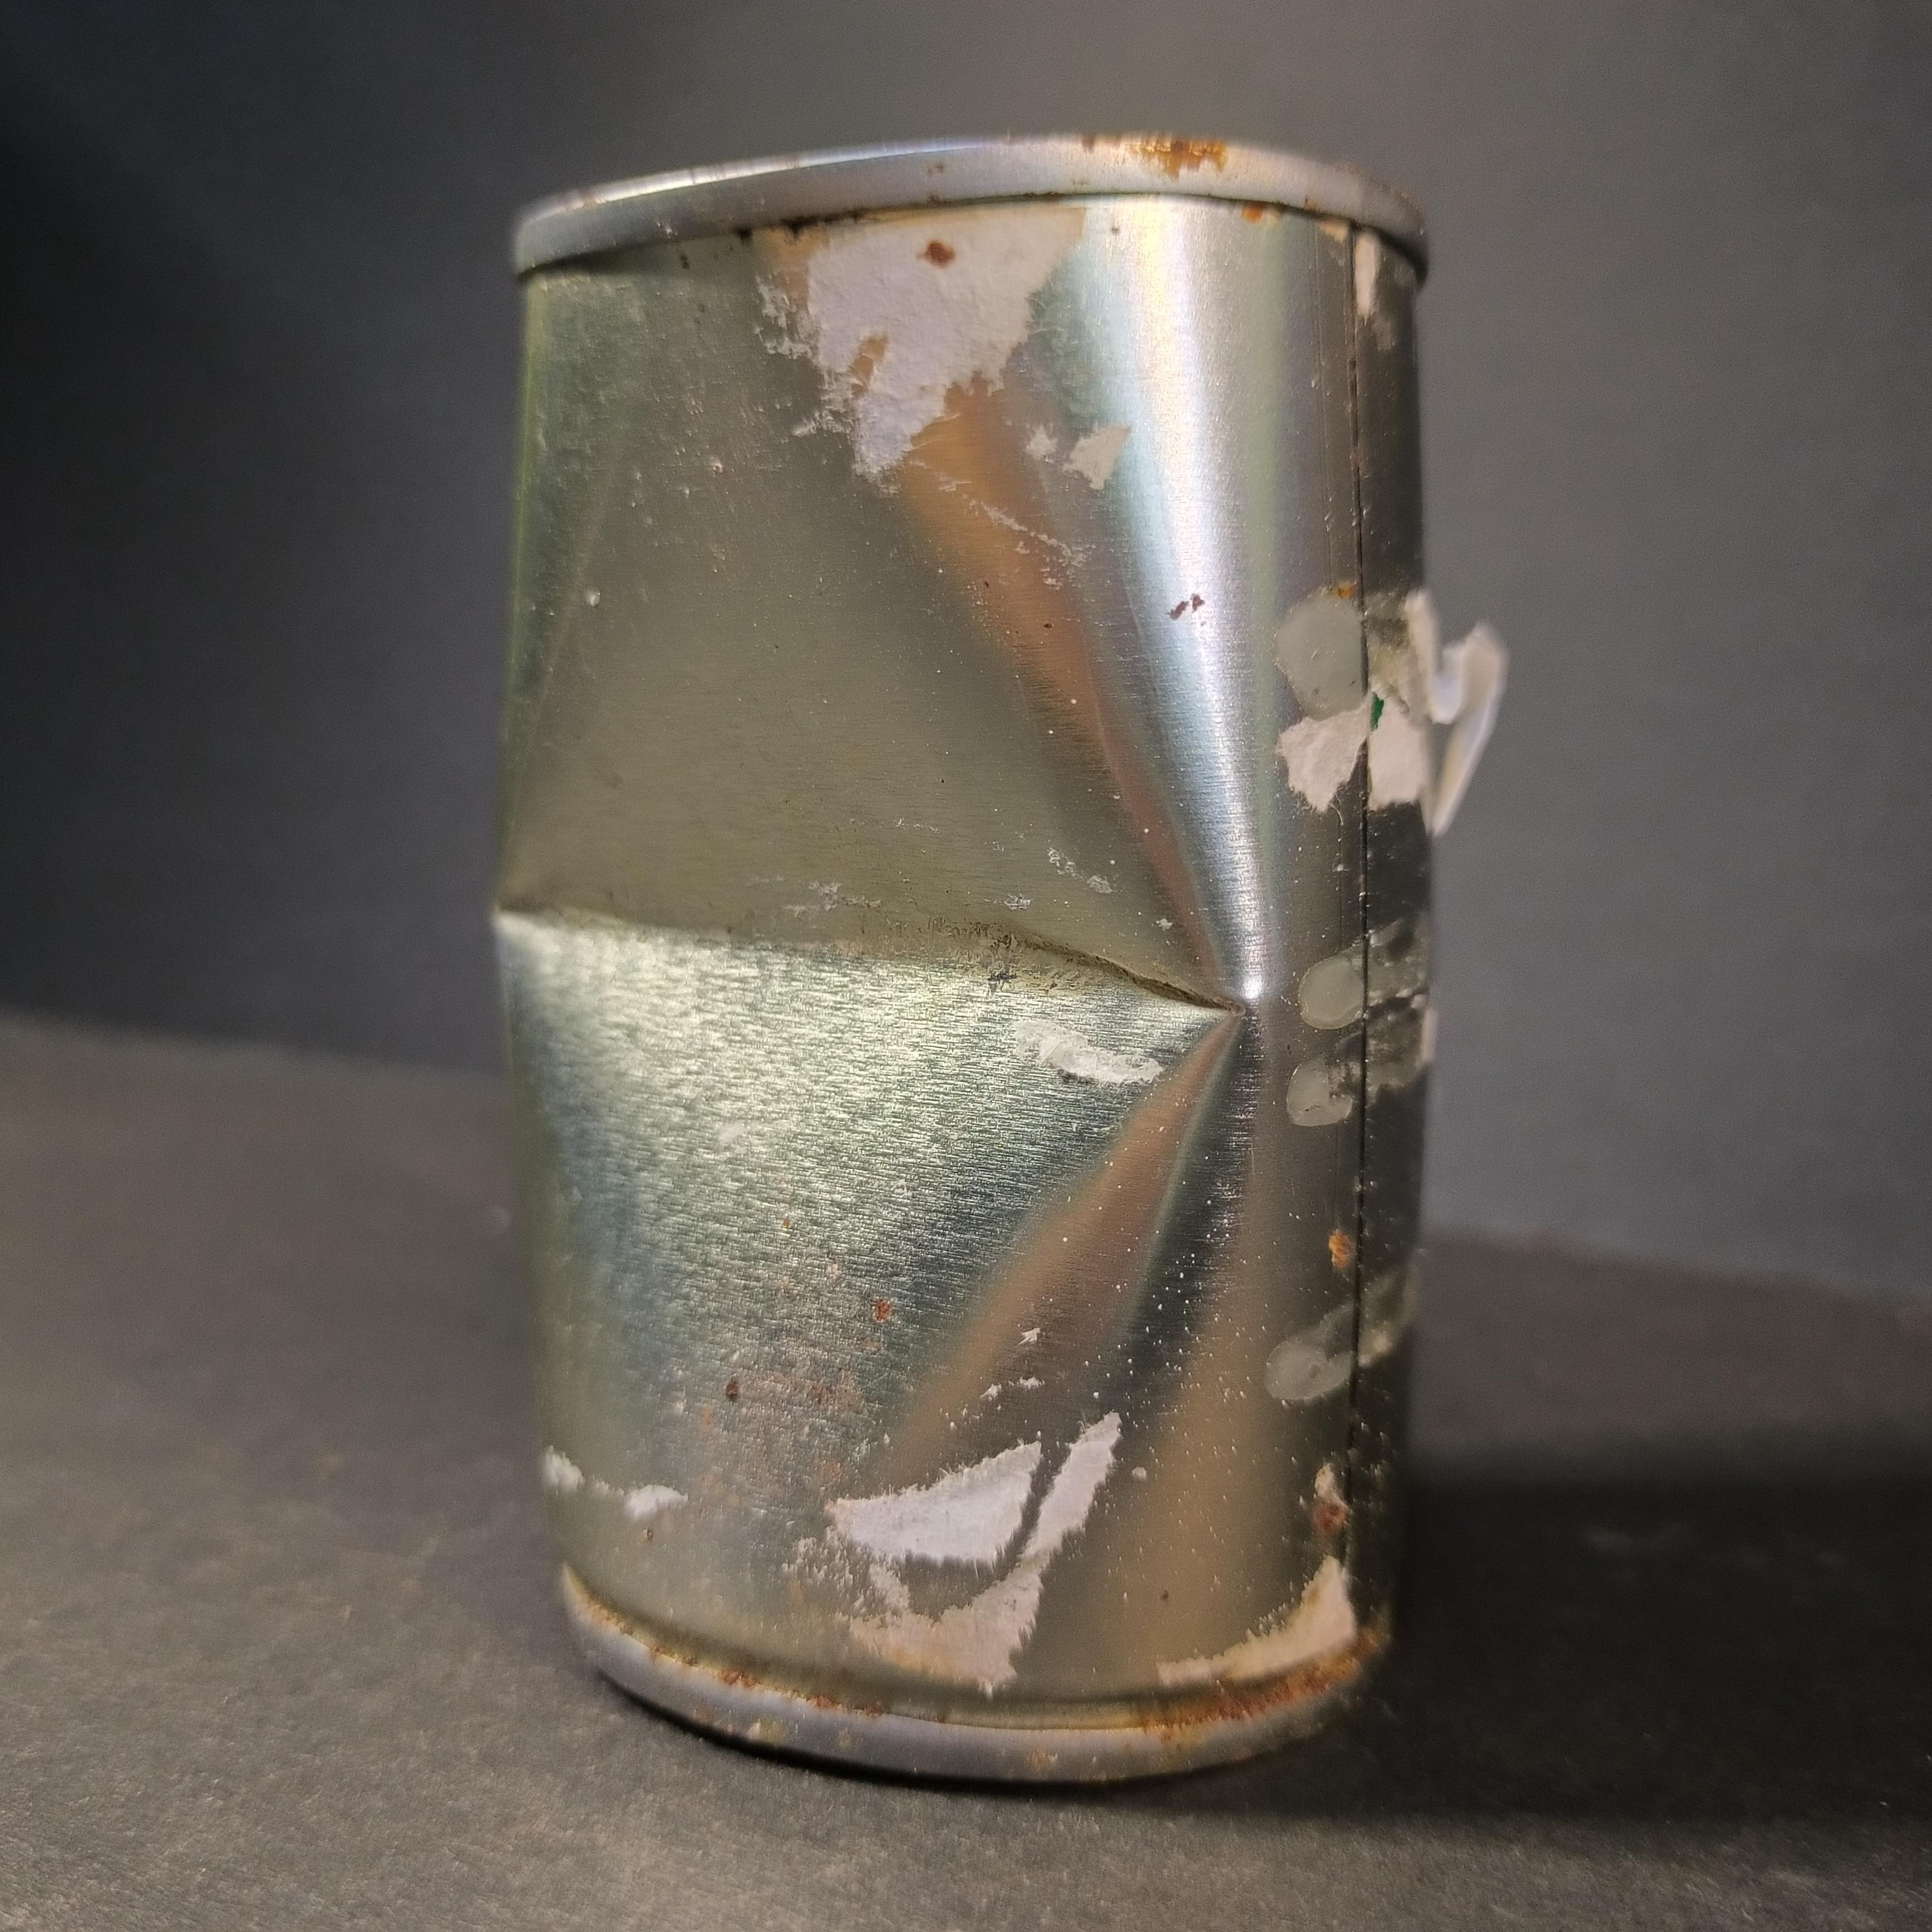Dented: (451, 81, 1502, 1870)
